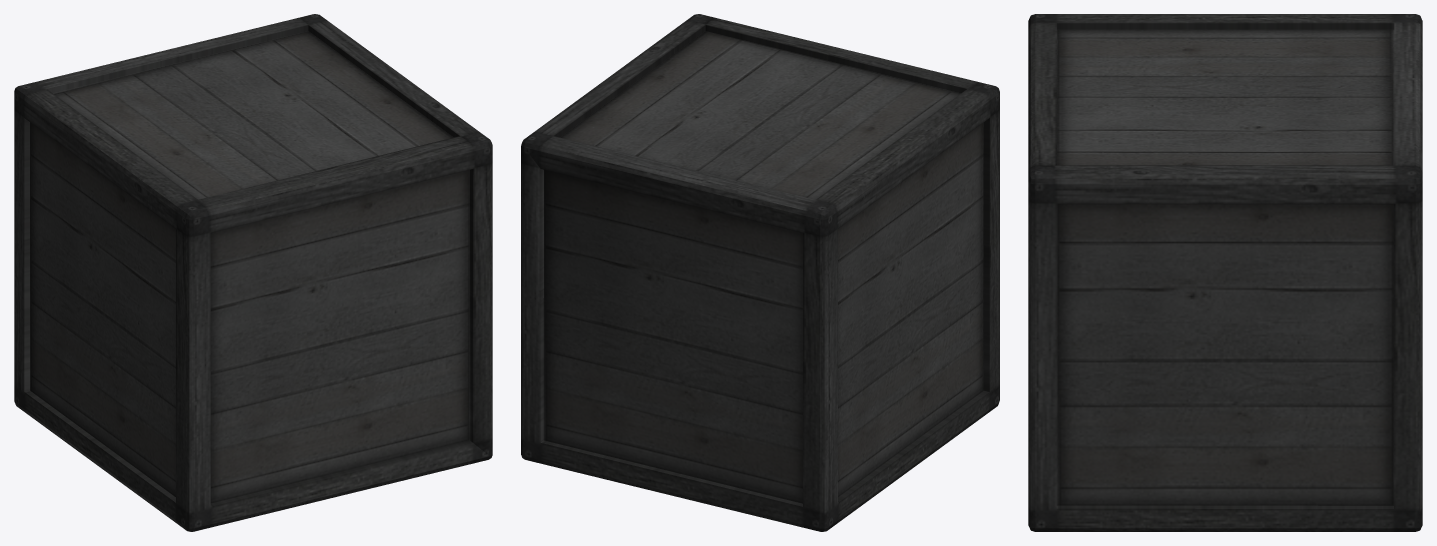
Rendered from wooden_crate_9.obj.
3 renders of one model, left to right at view 1: azimuth 30°, elevation 25°; view 2: azimuth 150°, elevation 25°; view 3: azimuth 270°, elevation 25°, orthographic. The views are drawn at different scales.
Visible parts, largest first — view 1: wooden_crate_9; view 2: wooden_crate_9; view 3: wooden_crate_9.
Boxes of the visible parts, x1,y1,x2,y2 form: wooden_crate_9: (14, 14, 492, 531); wooden_crate_9: (521, 14, 999, 531); wooden_crate_9: (1028, 14, 1422, 531).
Size of the model in its own units: 1.1 by 1.1 by 1.1.
